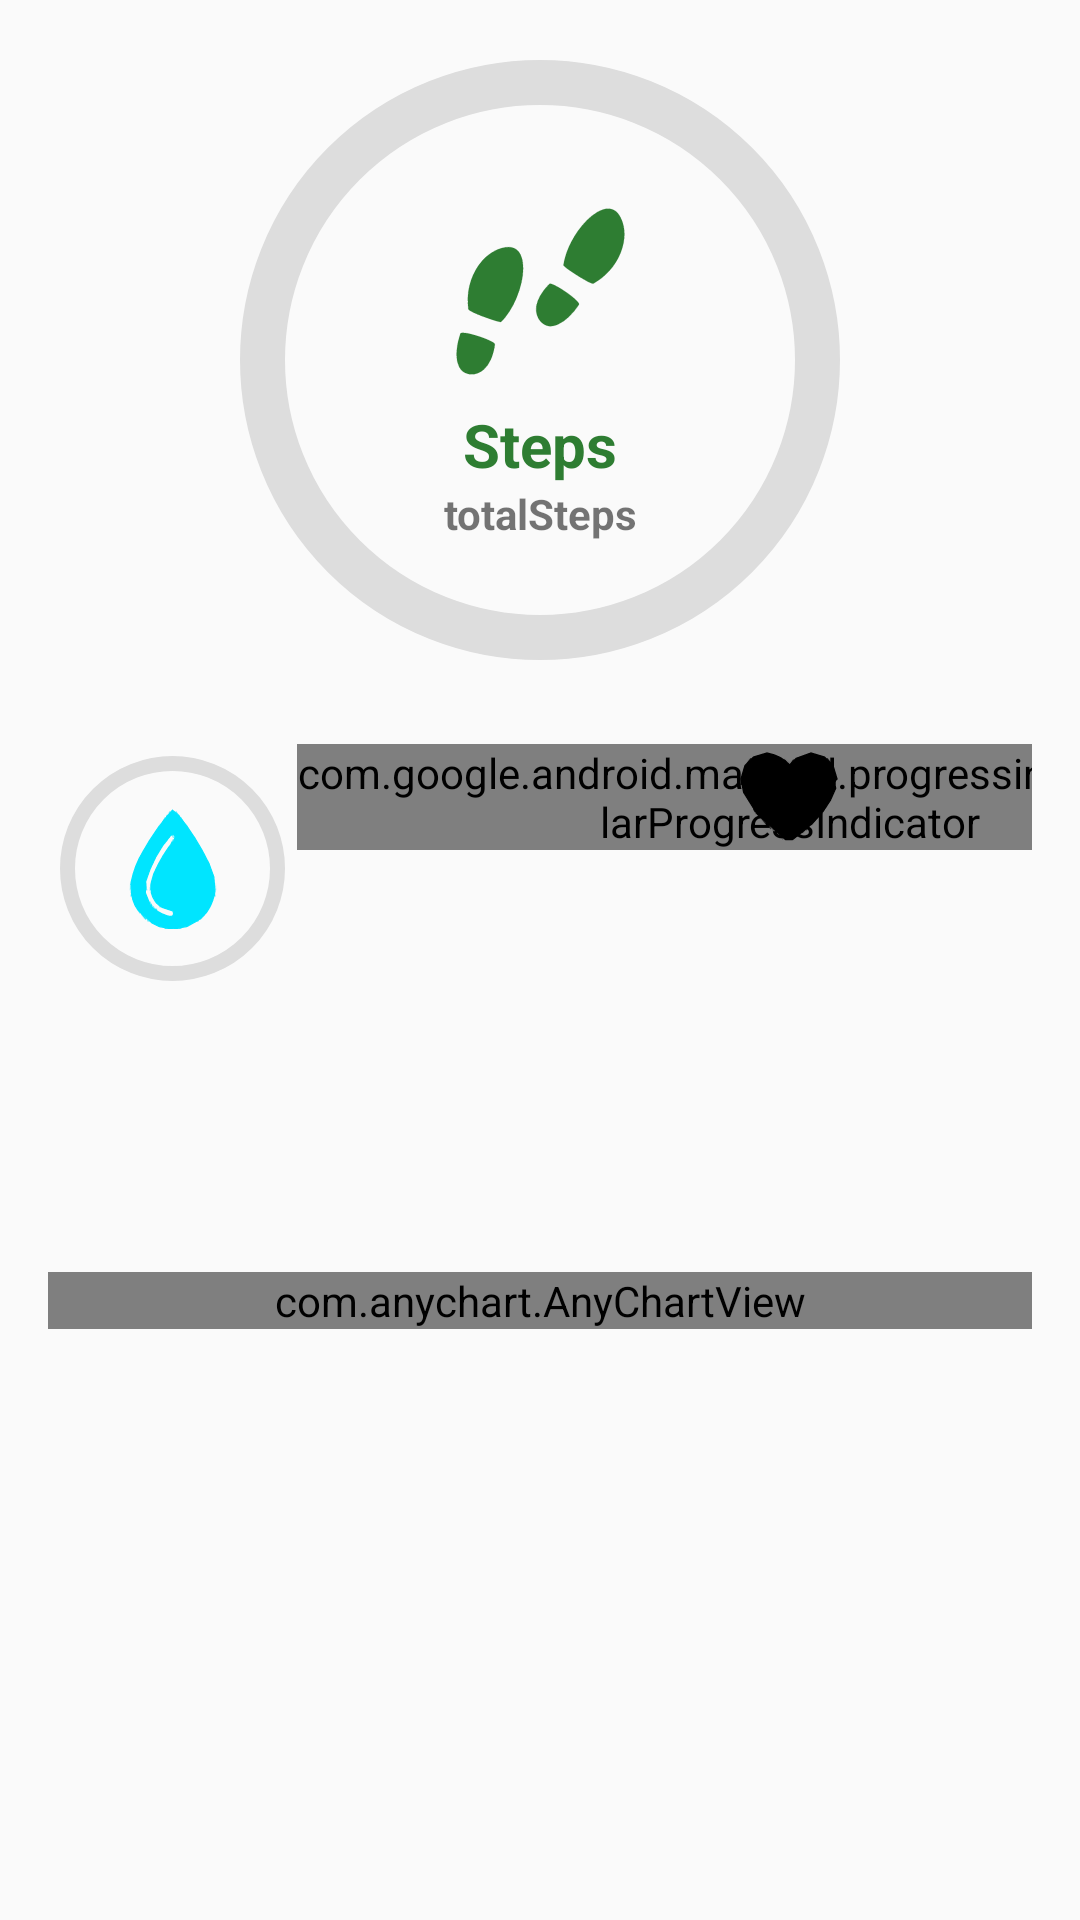

Icon bounding boxes for this 1080 × 1920 phone screenshot, format [x1,y1,x2,y2]:
water: [129,809,217,929]
